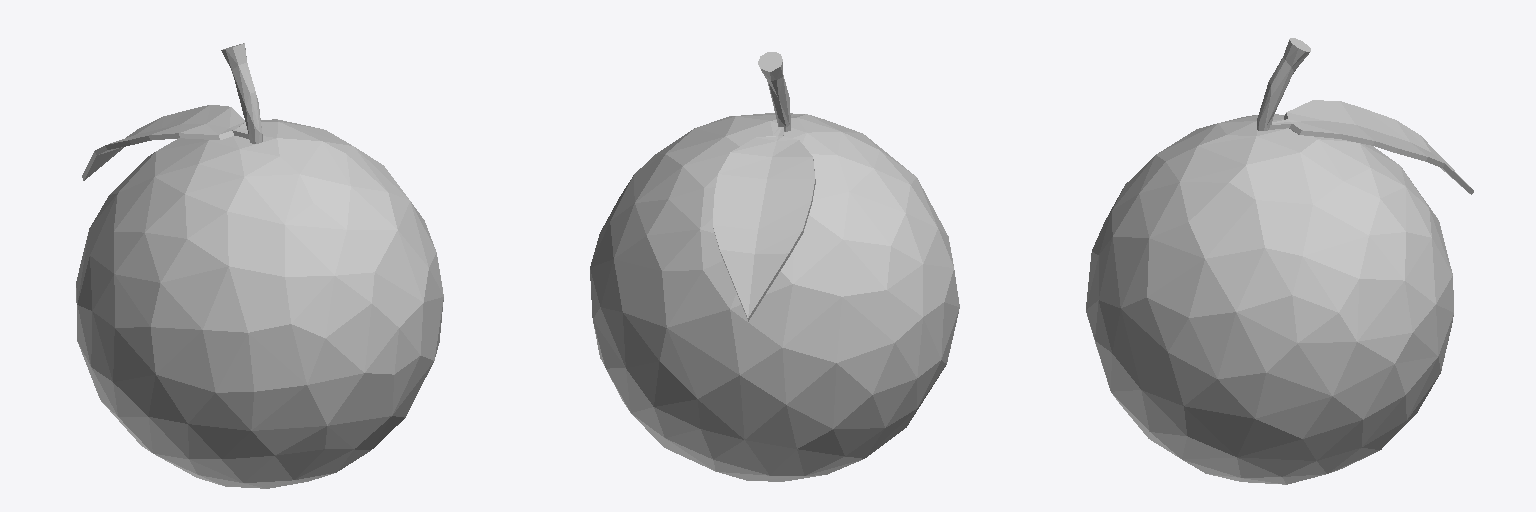
The model's file is Orange.mtl.obj.
3 renders of one model, left to right at view 1: azimuth 30°, elevation 25°; view 2: azimuth 150°, elevation 25°; view 3: azimuth 270°, elevation 25°, orthographic.
Visible parts, largest first — view 1: Sphere.003_Sphere.021; view 2: Sphere.003_Sphere.021; view 3: Sphere.003_Sphere.021.
Boxes of the visible parts, <box> form: Sphere.003_Sphere.021: <box>76,43,443,488</box>; Sphere.003_Sphere.021: <box>590,52,959,481</box>; Sphere.003_Sphere.021: <box>1086,38,1473,484</box>.
Bounding box in the file's own units: 0.4244 × 0.536 × 0.4482.